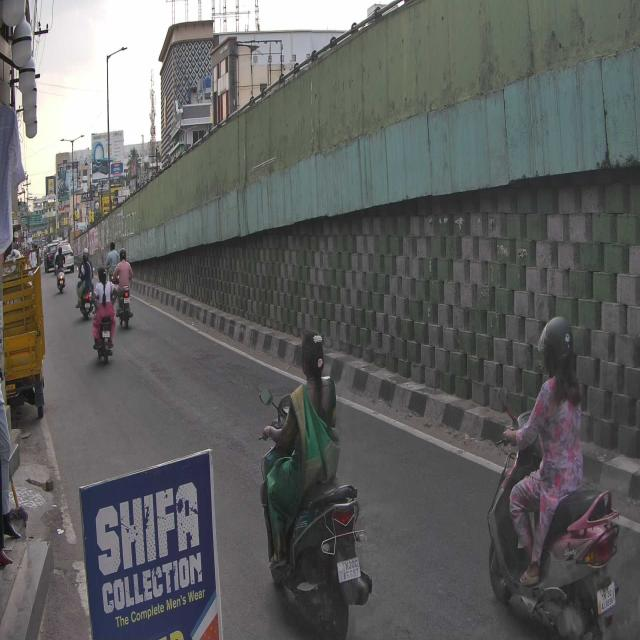single_rider: (485, 313, 623, 640), (253, 326, 376, 640)
